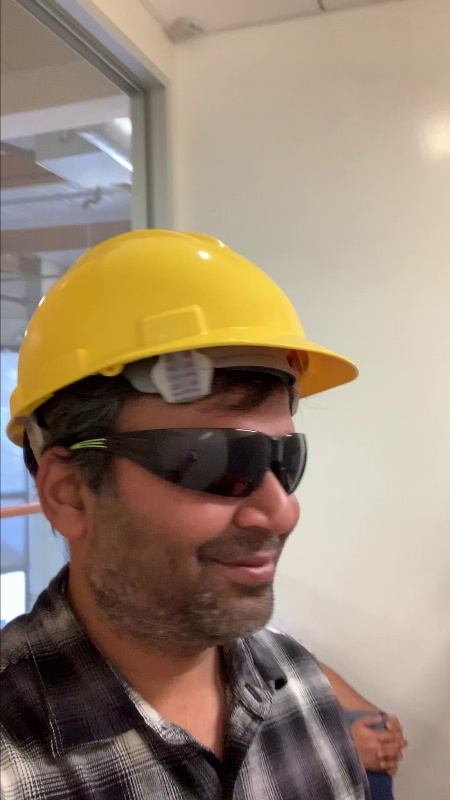glasses: (121, 418, 310, 504)
helmet: (1, 228, 365, 426)
